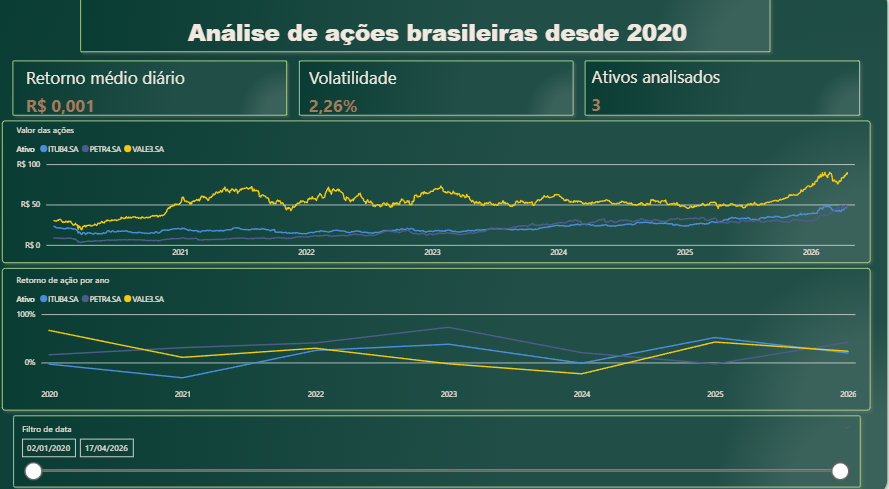

The page's visual inventory and layout, read from the dashboard file:
{"tool":"powerbi","page":{"name":"Página 1","canvas":[1280,720],"ordinal":0},"visuals":[{"type":"textbox","box":[0,9.9,1279.8,146],"z":0},{"type":"cardVisual","fields":{"Data":["Avg(retornos_acoes.Valor)"]},"box":[39.7,90.7,401.1,99.2],"z":1000},{"type":"cardVisual","fields":{"Data":["Sum(retornos_acoes.Retorno)"]},"box":[440.8,90.7,399.7,99.2],"z":2000},{"type":"cardVisual","fields":{"Data":["retornos_acoes.Numero de Ativos"]},"box":[853.2,90.7,398.3,96.4],"z":3000},{"type":"lineChart","title":"Valor das ações","fields":{"Y":["Sum(precos_acoes.Valor)"],"Series":["precos_acoes.Atributo"],"Category":["precos_acoes.Date"]},"box":[38.9,187.2,1199.5,200.2],"z":4000},{"type":"slicer","fields":{"Values":["precos_acoes.Date"]},"box":[38.9,604.8,1199.5,99.4],"z":5000},{"type":"lineChart","title":"Retorno de ação por ano","fields":{"Category":["retornos_acoes.Date.Variation.Hierarquia de datas.Ano","retornos_acoes.Date.Variation.Hierarquia de datas.Trimestre","retornos_acoes.Date.Variation.Hierarquia de datas.Mês","retornos_acoes.Date.Variation.Hierarquia de datas.Dia"],"Y":["Sum(retornos_acoes.Retorno)"],"Series":["retornos_acoes.Ativo"]},"box":[38.3,399.7,1200.5,188.5],"z":6000}]}

Visuals, with their boxes in screenshot pixels (x1, y1, x2, y2), scaled from the page's 1280x720 canvas onto the 889x489 screenshot:
textbox: x1=0 y1=7 x2=888 y2=106
cardVisual - Avg(retornos_acoes.Valor): x1=28 y1=62 x2=306 y2=129
cardVisual - Sum(retornos_acoes.Retorno): x1=306 y1=62 x2=584 y2=129
cardVisual - retornos_acoes.Numero de Ativos: x1=593 y1=62 x2=869 y2=127
"Valor das ações" lineChart: x1=27 y1=127 x2=860 y2=263
slicer - precos_acoes.Date: x1=27 y1=411 x2=860 y2=478
"Retorno de ação por ano" lineChart: x1=27 y1=271 x2=860 y2=399
